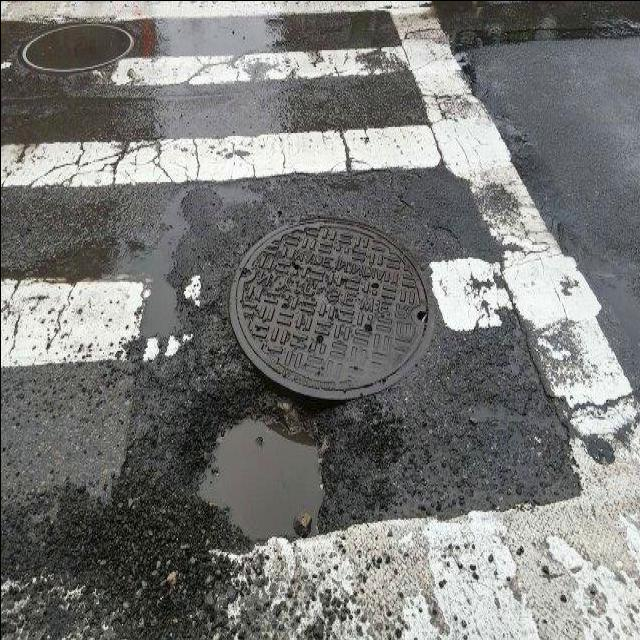jalan retak: (424, 237, 592, 498), (22, 111, 210, 218), (391, 13, 640, 81), (370, 155, 466, 305), (125, 34, 283, 122), (0, 250, 85, 406), (270, 12, 356, 88), (308, 112, 370, 190)
lubang: (148, 362, 388, 584)
